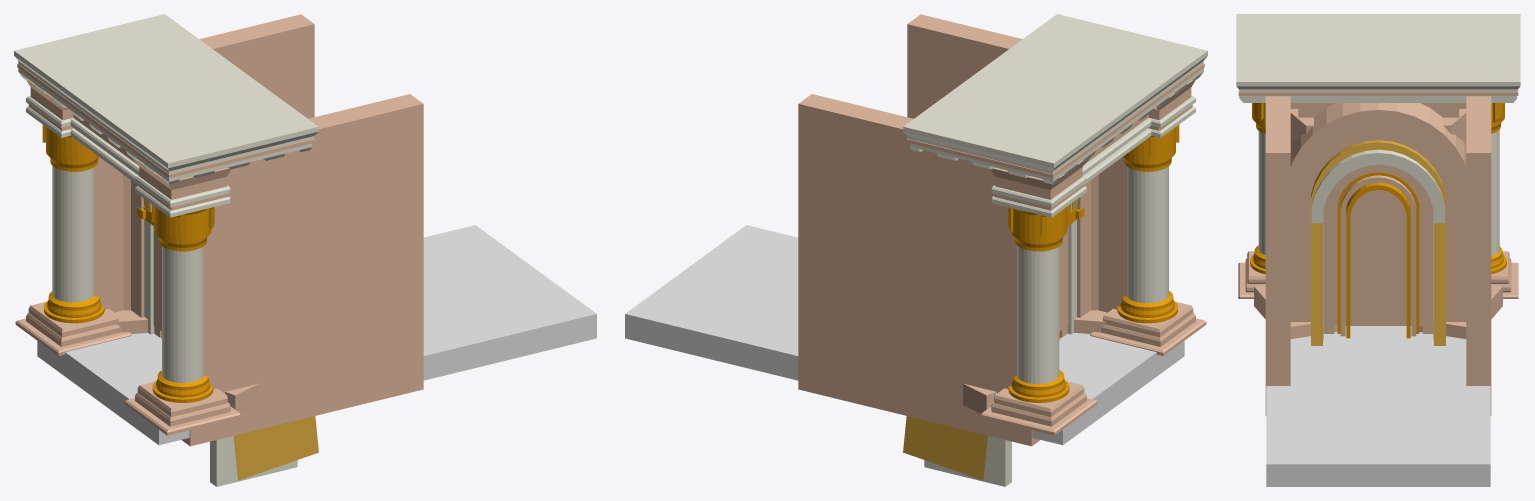
Rendered from GreekPortal.fbx.
The picture shows the model from 3 angles, left to right: view 1: azimuth 30°, elevation 25°; view 2: azimuth 150°, elevation 25°; view 3: azimuth 270°, elevation 25°; orthographic projection. The views are drawn at different scales.
Visible parts, largest first — view 1: Cube.029, Cube.023, Plane, Cube.028, Cylinder.005, Cylinder, Circle.003, Circle.006, Cylinder.003, Cube.012, Cube.020, Cube.017 (+19 smaller); view 2: Cube.028, Cube.023, Plane, Cube.029, Cylinder, Cylinder.005, Circle.003, Circle.006, Cylinder.002, Cube.003, Cube.020, Cube.018 (+19 smaller); view 3: Plane, Cube.023, Circle.001, Cube.008, Cube.028, Cube.029, Circle.003, Circle.006, Circle, Circle.002, Circle.005, Cube.020 (+15 smaller).
Part boxes in pixels (x1,y1,x2,y2): Cube.029: (181, 94, 423, 446); Cube.023: (14, 14, 318, 171); Plane: (37, 225, 596, 445); Cube.028: (94, 14, 314, 312); Cylinder.005: (162, 246, 203, 382); Cylinder: (52, 166, 93, 302); Circle.003: (143, 198, 318, 480); Circle.006: (144, 203, 297, 486); Cylinder.003: (151, 204, 214, 251); Cube.012: (131, 157, 230, 210); Cube.020: (18, 68, 312, 184); Cube.017: (131, 180, 144, 317); Cube.028: (798, 94, 1040, 446); Cube.023: (903, 14, 1207, 171); Plane: (625, 225, 1184, 445); Cube.029: (907, 14, 1126, 312); Cylinder: (1017, 245, 1059, 383); Cylinder.005: (1127, 166, 1168, 303); Circle.003: (903, 199, 1077, 480); Circle.006: (924, 203, 1076, 486); Cylinder.002: (1008, 204, 1070, 251); Cube.003: (991, 157, 1090, 210); Cube.020: (910, 68, 1203, 184); Cube.018: (1077, 180, 1090, 317); Plane: (1266, 326, 1490, 486); Cube.023: (1236, 14, 1520, 89); Circle.001: (1290, 103, 1466, 333); Cube.008: (1290, 109, 1466, 325); Cube.028: (1466, 96, 1491, 415); Cube.029: (1265, 96, 1290, 415); Circle.003: (1311, 140, 1445, 345); Circle.006: (1311, 149, 1445, 340); Circle: (1340, 175, 1416, 336); Circle.002: (1334, 165, 1422, 326); Circle.005: (1346, 182, 1410, 338); Cube.020: (1239, 96, 1516, 102).
Size of the model in its own units: 1417 by 1141 by 849.
